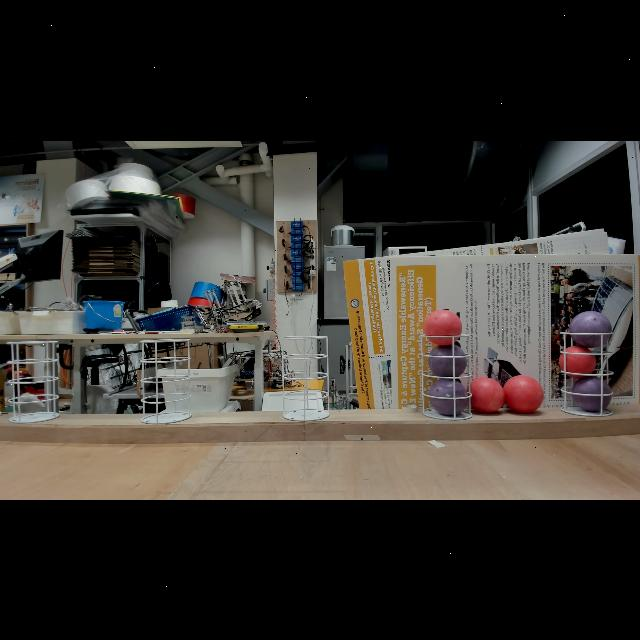P: (568, 310, 612, 348), (428, 378, 468, 416), (571, 376, 613, 412), (427, 344, 467, 378)
R: (502, 374, 544, 414), (466, 376, 506, 414), (423, 308, 462, 346), (558, 344, 596, 378)
S: (559, 329, 615, 416), (138, 338, 194, 424), (5, 339, 60, 425), (420, 333, 472, 421), (281, 333, 331, 422)
